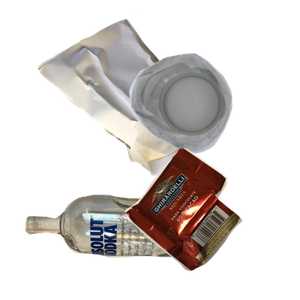glass: (22, 192, 234, 300)
paper: (35, 10, 237, 178)
plastic: (127, 51, 300, 197)
trash: (123, 145, 300, 300)
